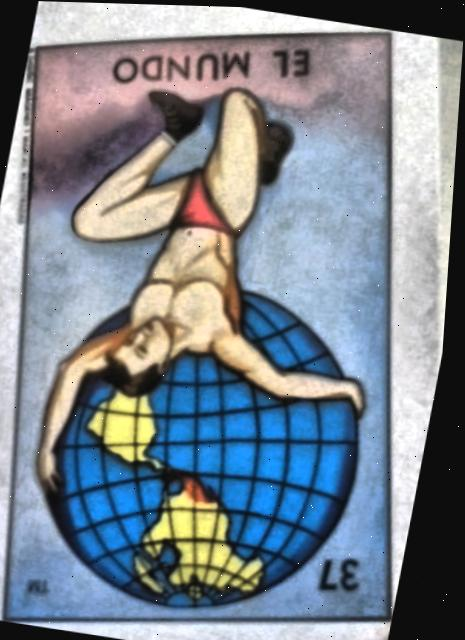El Mundo: (15, 26, 398, 616)
